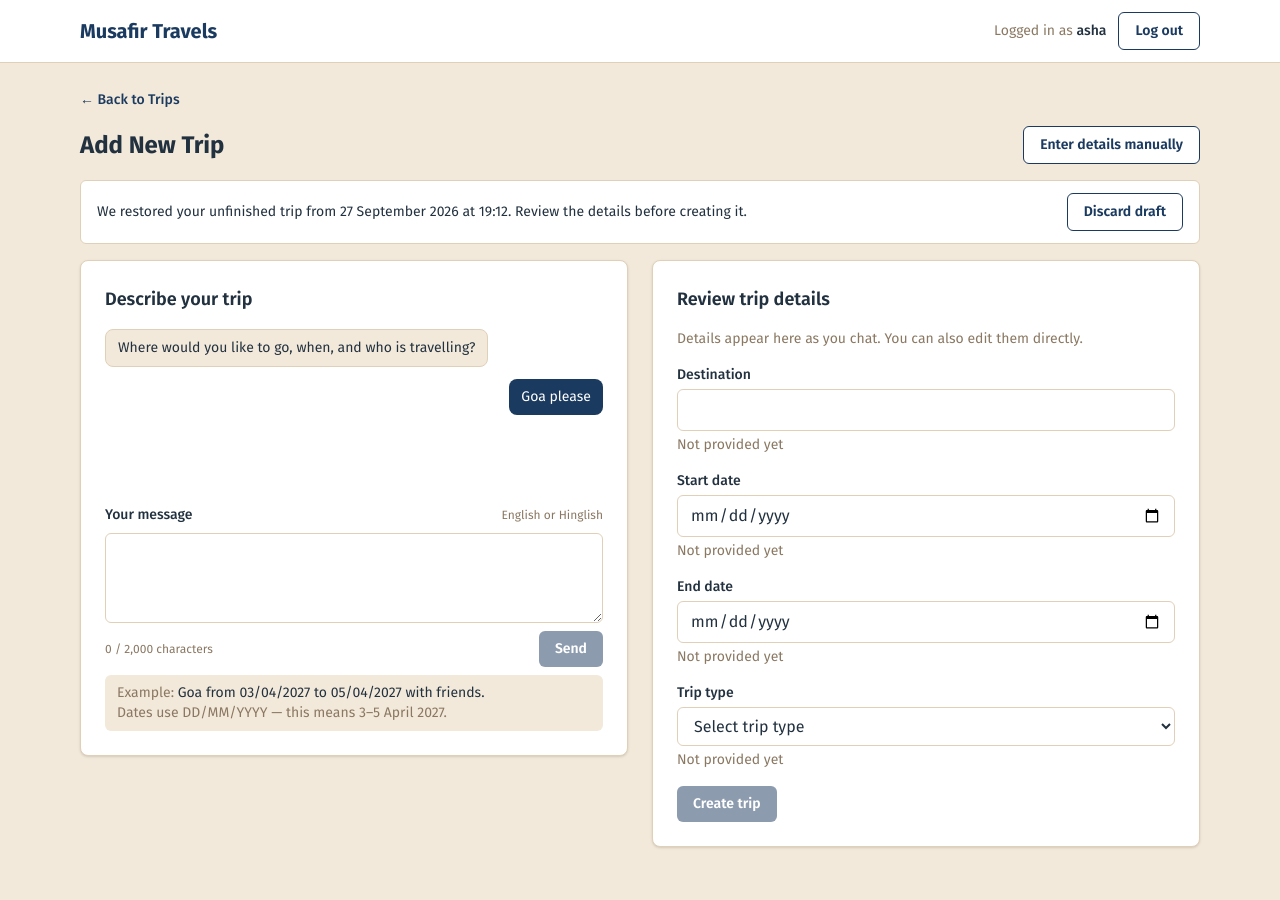
TripChat — restoration › "Discard draft" clears the saved flow
Check: the text "Goa please" is shown, box [509, 379, 603, 415]
What coordinates should you click on to do the following:
click the button "Discard draft"
I would click on:
 (1125, 212)
Its box is [1067, 193, 1183, 231].
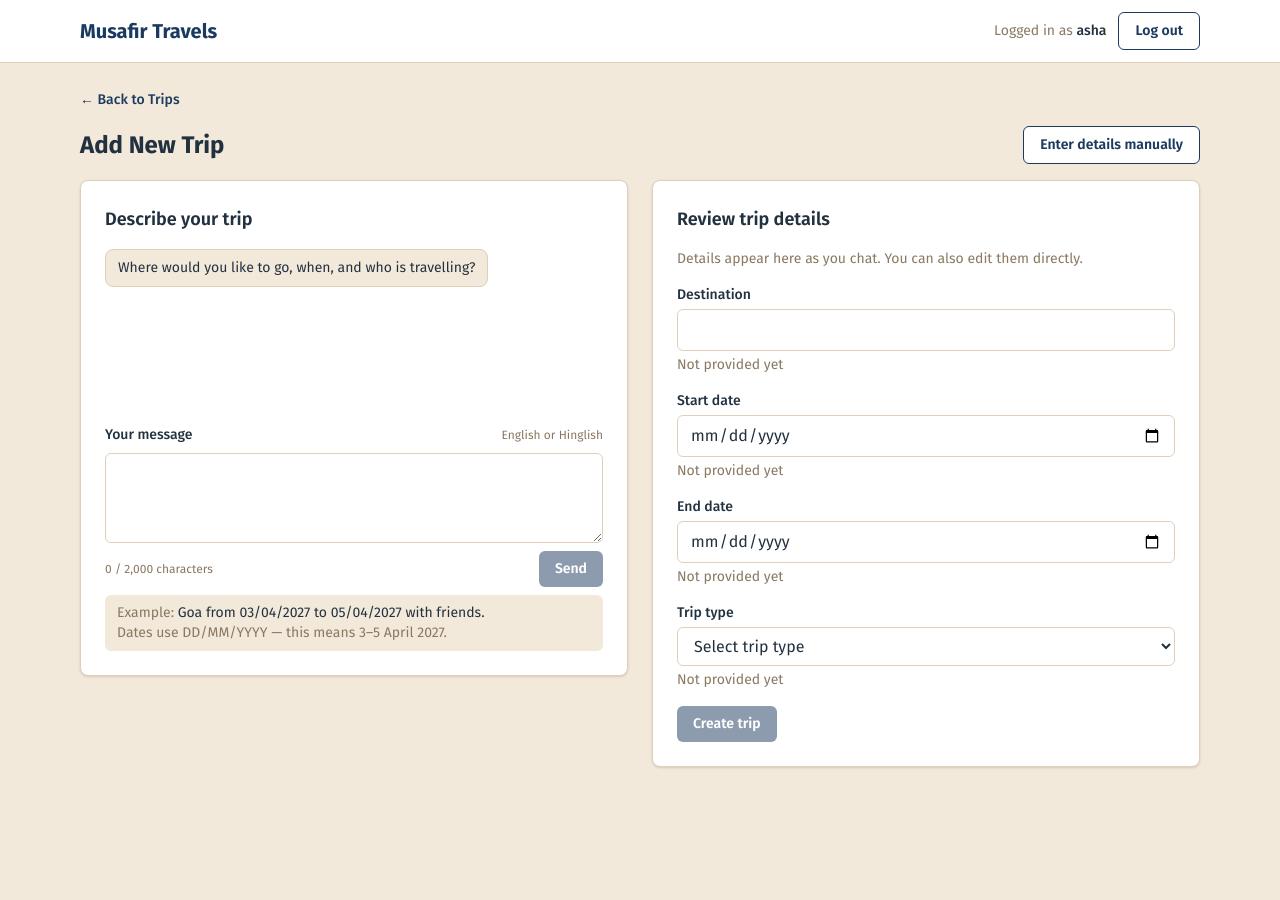
Check: the text "Goa please" is gone
